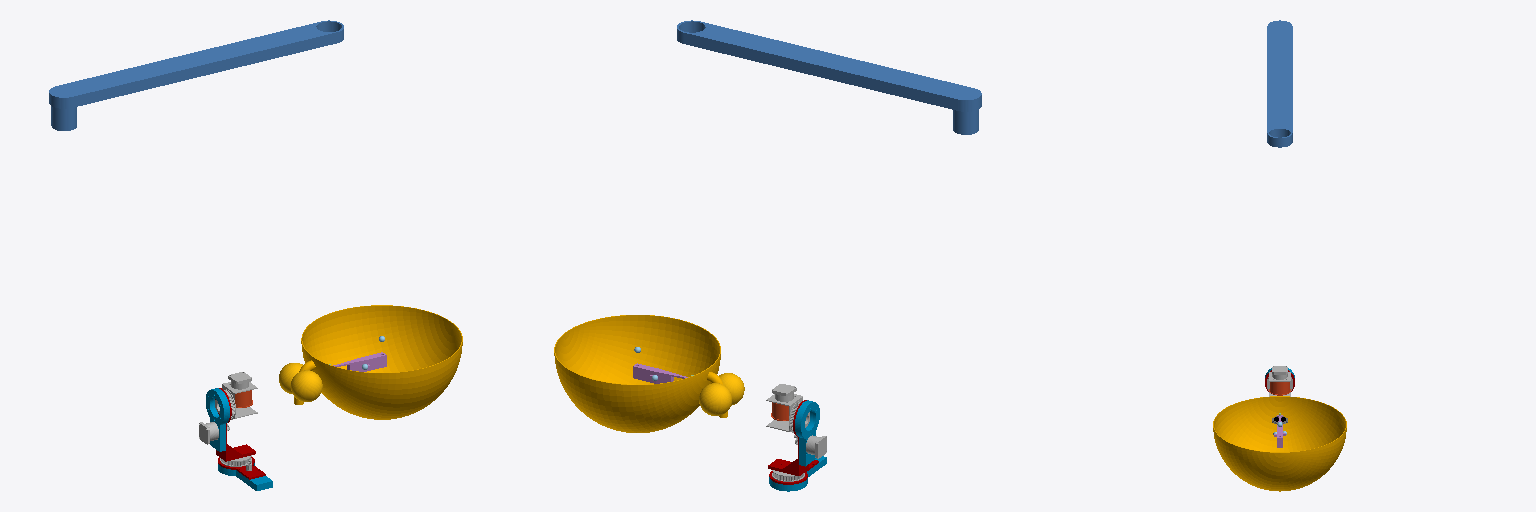
The robot description file, URDF, robot "manipulator_cable":
<?xml version="1.0" ?>
<!-- Generated using onshape-to-robot -->
<!-- Onshape https://cad.onshape.com/documents/b39b411822989851cca3e813/w/467ae2e9d0332de97ab9273b/e/7c7c756798b0544d5800e865 -->
<robot name="manipulator_cable">
  <!-- Link base_mate -->
  <link name="base_mate">
    <inertial>
      <origin xyz="7.86381e-05 -0.054697 0.0143065" rpy="0 0 0"/>
      <mass value="0.896478"/>
      <inertia ixx="0.00446547" ixy="-1.19636e-07" ixz="-1.49409e-06" iyy="0.000755188" iyz="-2.78032e-05" izz="0.00509348"/>
    </inertial>
    <!-- Part base -->
    <visual>
      <origin xyz="-2.08167e-17 0 0.011" rpy="-1.5708 -1.5708 0"/>
      <geometry>
        <mesh filename="package://assets/base.obj"/>
      </geometry>
      <material name="base_material">
        <color rgba="0 0.6 0.8 1"/>
      </material>
    </visual>
    <collision>
      <origin xyz="-2.08167e-17 0 0.011" rpy="-1.5708 -1.5708 0"/>
      <geometry>
        <mesh filename="package://assets/base.obj"/>
      </geometry>
    </collision>
    <!-- Part pulley_idler -->
    <visual>
      <origin xyz="0.022 -0.053 0.043" rpy="-1.5708 -7.88861e-30 1.5708"/>
      <geometry>
        <mesh filename="package://assets/pulley_idler.obj"/>
      </geometry>
      <material name="pulley_idler_material">
        <color rgba="0.74902 0.74902 0.74902 1"/>
      </material>
    </visual>
    <collision>
      <origin xyz="0.022 -0.053 0.043" rpy="-1.5708 -7.88861e-30 1.5708"/>
      <geometry>
        <mesh filename="package://assets/pulley_idler.obj"/>
      </geometry>
    </collision>
    <!-- Part tutup_base_1 -->
    <visual>
      <origin xyz="3.04901e-18 -1.05985e-32 0.022" rpy="1.5708 7.69139e-30 -1.5708"/>
      <geometry>
        <mesh filename="package://assets/tutup_base_1.obj"/>
      </geometry>
      <material name="tutup_base_1_material">
        <color rgba="0.698039 0 0 1"/>
      </material>
    </visual>
    <collision>
      <origin xyz="3.04901e-18 -1.05985e-32 0.022" rpy="1.5708 7.69139e-30 -1.5708"/>
      <geometry>
        <mesh filename="package://assets/tutup_base_1.obj"/>
      </geometry>
    </collision>
    <!-- Part pulle_htd_5m_12t -->
    <visual>
      <origin xyz="7.26786e-18 -0.08 0.0455" rpy="-1.5708 -1.33227e-15 4.44089e-16"/>
      <geometry>
        <mesh filename="package://assets/pulle_htd_5m_12t.obj"/>
      </geometry>
      <material name="pulle_htd_5m_12t_material">
        <color rgba="0.74902 0.74902 0.74902 1"/>
      </material>
    </visual>
    <collision>
      <origin xyz="7.26786e-18 -0.08 0.0455" rpy="-1.5708 -1.33227e-15 4.44089e-16"/>
      <geometry>
        <mesh filename="package://assets/pulle_htd_5m_12t.obj"/>
      </geometry>
    </collision>
  </link>
  <!-- Link pulley_htd_5m_60t -->
  <link name="pulley_htd_5m_60t">
    <inertial>
      <origin xyz="0.0455629 -2.16864e-06 0.158199" rpy="0 0 0"/>
      <mass value="5.31309"/>
      <inertia ixx="0.0339283" ixy="2.16268e-05" ixz="-0.0188964" iyy="0.0891131" iyz="5.29894e-06" izz="0.0607057"/>
    </inertial>
    <!-- Part pulley_htd_5m_60t -->
    <visual>
      <origin xyz="0 2.73691e-48 -0.0025" rpy="-1.5708 -6.56859e-47 5.93186e-32"/>
      <geometry>
        <mesh filename="package://assets/pulley_htd_5m_60t.obj"/>
      </geometry>
      <material name="pulley_htd_5m_60t_material">
        <color rgba="0.74902 0.74902 0.74902 1"/>
      </material>
    </visual>
    <collision>
      <origin xyz="0 2.73691e-48 -0.0025" rpy="-1.5708 -6.56859e-47 5.93186e-32"/>
      <geometry>
        <mesh filename="package://assets/pulley_htd_5m_60t.obj"/>
      </geometry>
    </collision>
    <!-- Part base_kedua -->
    <visual>
      <origin xyz="-0.0658116 -6.08653e-17 0.179049" rpy="1.47911e-31 -1.52349e-29 4.41487e-16"/>
      <geometry>
        <mesh filename="package://assets/base_kedua.obj"/>
      </geometry>
      <material name="base_kedua_material">
        <color rgba="0 0.6 0.8 1"/>
      </material>
    </visual>
    <collision>
      <origin xyz="-0.0658116 -6.08653e-17 0.179049" rpy="1.47911e-31 -1.52349e-29 4.41487e-16"/>
      <geometry>
        <mesh filename="package://assets/base_kedua.obj"/>
      </geometry>
    </collision>
    <!-- Part part_1 -->
    <visual>
      <origin xyz="0.232043 -0.0375 0.195349" rpy="-2.01765e-27 2.70617e-16 -6.93889e-17"/>
      <geometry>
        <mesh filename="package://assets/part_1.obj"/>
      </geometry>
      <material name="part_1_material">
        <color rgba="1 0.756863 0.054902 1"/>
      </material>
    </visual>
    <collision>
      <origin xyz="0.232043 -0.0375 0.195349" rpy="-2.01765e-27 2.70617e-16 -6.93889e-17"/>
      <geometry>
        <mesh filename="package://assets/part_1.obj"/>
      </geometry>
    </collision>
    <!-- Part pulley_idler_2 -->
    <visual>
      <origin xyz="-0.0338116 0.022 0.126049" rpy="4.44089e-16 -7.33047e-30 1.5708"/>
      <geometry>
        <mesh filename="package://assets/pulley_idler.obj"/>
      </geometry>
      <material name="pulley_idler_2_material">
        <color rgba="0.74902 0.74902 0.74902 1"/>
      </material>
    </visual>
    <collision>
      <origin xyz="-0.0338116 0.022 0.126049" rpy="4.44089e-16 -7.33047e-30 1.5708"/>
      <geometry>
        <mesh filename="package://assets/pulley_idler.obj"/>
      </geometry>
    </collision>
    <!-- Part gearbox_15_ratio -->
    <visual>
      <origin xyz="0.0426884 0.0285 0.264049" rpy="-3.14159 -4.44089e-16 3.14159"/>
      <geometry>
        <mesh filename="package://assets/gearbox_15_ratio.obj"/>
      </geometry>
      <material name="gearbox_15_ratio_material">
        <color rgba="0.74902 0.74902 0.74902 1"/>
      </material>
    </visual>
    <collision>
      <origin xyz="0.0426884 0.0285 0.264049" rpy="-3.14159 -4.44089e-16 3.14159"/>
      <geometry>
        <mesh filename="package://assets/gearbox_15_ratio.obj"/>
      </geometry>
    </collision>
    <!-- Part pulle_htd_5m_12t_2 -->
    <visual>
      <origin xyz="-0.0313116 -2.76743e-17 0.0990487" rpy="-1.5708 1.5708 0"/>
      <geometry>
        <mesh filename="package://assets/pulle_htd_5m_12t.obj"/>
      </geometry>
      <material name="pulle_htd_5m_12t_2_material">
        <color rgba="0.74902 0.74902 0.74902 1"/>
      </material>
    </visual>
    <collision>
      <origin xyz="-0.0313116 -2.76743e-17 0.0990487" rpy="-1.5708 1.5708 0"/>
      <geometry>
        <mesh filename="package://assets/pulle_htd_5m_12t.obj"/>
      </geometry>
    </collision>
    <!-- Part part_1_2 -->
    <visual>
      <origin xyz="0.232304 0.037208 0.191749" rpy="-2.0177e-27 6.17562e-16 -6.93889e-17"/>
      <geometry>
        <mesh filename="package://assets/part_1.obj"/>
      </geometry>
      <material name="part_1_2_material">
        <color rgba="1 0.756863 0.054902 1"/>
      </material>
    </visual>
    <collision>
      <origin xyz="0.232304 0.037208 0.191749" rpy="-2.0177e-27 6.17562e-16 -6.93889e-17"/>
      <geometry>
        <mesh filename="package://assets/part_1.obj"/>
      </geometry>
    </collision>
    <!-- Part part_623zz -->
    <visual>
      <origin xyz="0.232304 0.037208 0.198249" rpy="9.64146e-19 6.17562e-16 -6.93889e-17"/>
      <geometry>
        <mesh filename="package://assets/part_623zz.obj"/>
      </geometry>
      <material name="part_623zz_material">
        <color rgba="0.956863 0.956863 0.956863 1"/>
      </material>
    </visual>
    <collision>
      <origin xyz="0.232304 0.037208 0.198249" rpy="9.64146e-19 6.17562e-16 -6.93889e-17"/>
      <geometry>
        <mesh filename="package://assets/part_623zz.obj"/>
      </geometry>
    </collision>
    <!-- Part pulley_htd_5m_60t_2 -->
    <visual>
      <origin xyz="-0.0313116 -3.37739e-17 0.179049" rpy="-1.5708 1.5708 0"/>
      <geometry>
        <mesh filename="package://assets/pulley_htd_5m_60t.obj"/>
      </geometry>
      <material name="pulley_htd_5m_60t_2_material">
        <color rgba="0.74902 0.74902 0.74902 1"/>
      </material>
    </visual>
    <collision>
      <origin xyz="-0.0313116 -3.37739e-17 0.179049" rpy="-1.5708 1.5708 0"/>
      <geometry>
        <mesh filename="package://assets/pulley_htd_5m_60t.obj"/>
      </geometry>
    </collision>
    <!-- Part link1 -->
    <visual>
      <origin xyz="0.334804 -6.75053e-17 0.177049" rpy="-2.02465e-27 4.44089e-16 -6.93889e-17"/>
      <geometry>
        <mesh filename="package://assets/link1.obj"/>
      </geometry>
      <material name="link1_material">
        <color rgba="0.32549 0.529412 0.752941 1"/>
      </material>
    </visual>
    <collision>
      <origin xyz="0.334804 -6.75053e-17 0.177049" rpy="-2.02465e-27 4.44089e-16 -6.93889e-17"/>
      <geometry>
        <mesh filename="package://assets/link1.obj"/>
      </geometry>
    </collision>
    <!-- Part part_623zz_2 -->
    <visual>
      <origin xyz="0.232043 -0.0375 0.201849" rpy="9.64146e-19 2.70617e-16 -6.93889e-17"/>
      <geometry>
        <mesh filename="package://assets/part_623zz.obj"/>
      </geometry>
      <material name="part_623zz_2_material">
        <color rgba="0.956863 0.956863 0.956863 1"/>
      </material>
    </visual>
    <collision>
      <origin xyz="0.232043 -0.0375 0.201849" rpy="9.64146e-19 2.70617e-16 -6.93889e-17"/>
      <geometry>
        <mesh filename="package://assets/part_623zz.obj"/>
      </geometry>
    </collision>
    <!-- Part tutup_base_1_dgn_mounting -->
    <visual>
      <origin xyz="-0.0548116 -3.21433e-17 0.179049" rpy="1.5708 1.5708 0"/>
      <geometry>
        <mesh filename="package://assets/tutup_base_1_dgn_mounting.obj"/>
      </geometry>
      <material name="tutup_base_1_dgn_mounting_material">
        <color rgba="0.698039 0 0 1"/>
      </material>
    </visual>
    <collision>
      <origin xyz="-0.0548116 -3.21433e-17 0.179049" rpy="1.5708 1.5708 0"/>
      <geometry>
        <mesh filename="package://assets/tutup_base_1_dgn_mounting.obj"/>
      </geometry>
    </collision>
    <!-- Part shoulder_bracker -->
    <visual>
      <origin xyz="-0.0288116 -4.16014e-17 0.179049" rpy="-4.44089e-16 -2.03161e-27 -1.5708"/>
      <geometry>
        <mesh filename="package://assets/shoulder_bracker.obj"/>
      </geometry>
      <material name="shoulder_bracker_material">
        <color rgba="0.74902 0.74902 0.74902 1"/>
      </material>
    </visual>
    <collision>
      <origin xyz="-0.0288116 -4.16014e-17 0.179049" rpy="-4.44089e-16 -2.03161e-27 -1.5708"/>
      <geometry>
        <mesh filename="package://assets/shoulder_bracker.obj"/>
      </geometry>
    </collision>
    <!-- Part gearbox_15_ratio_2 -->
    <visual>
      <origin xyz="-0.118812 0.0285 0.127549" rpy="6.93889e-17 1.5708 0"/>
      <geometry>
        <mesh filename="package://assets/gearbox_15_ratio.obj"/>
      </geometry>
      <material name="gearbox_15_ratio_2_material">
        <color rgba="0.74902 0.74902 0.74902 1"/>
      </material>
    </visual>
    <collision>
      <origin xyz="-0.118812 0.0285 0.127549" rpy="6.93889e-17 1.5708 0"/>
      <geometry>
        <mesh filename="package://assets/gearbox_15_ratio.obj"/>
      </geometry>
    </collision>
    <!-- Part simple_ball -->
    <visual>
      <origin xyz="-0.0238116 -6.77745e-17 0.200249" rpy="-2.03206e-27 4.44089e-16 -6.93889e-17"/>
      <geometry>
        <mesh filename="package://assets/simple_ball.obj"/>
      </geometry>
      <material name="simple_ball_material">
        <color rgba="0.615686 0.811765 0.929412 1"/>
      </material>
    </visual>
    <collision>
      <origin xyz="-0.0238116 -6.77745e-17 0.200249" rpy="-2.03206e-27 4.44089e-16 -6.93889e-17"/>
      <geometry>
        <mesh filename="package://assets/simple_ball.obj"/>
      </geometry>
    </collision>
    <!-- Part link1_base_pulley -->
    <visual>
      <origin xyz="0.0141884 -7.05644e-17 0.266049" rpy="-2.03206e-27 5.66554e-16 -6.93889e-17"/>
      <geometry>
        <mesh filename="package://assets/link1_base_pulley.obj"/>
      </geometry>
      <material name="link1_base_pulley_material">
        <color rgba="0.866667 0.321569 0.156863 1"/>
      </material>
    </visual>
    <collision>
      <origin xyz="0.0141884 -7.05644e-17 0.266049" rpy="-2.03206e-27 5.66554e-16 -6.93889e-17"/>
      <geometry>
        <mesh filename="package://assets/link1_base_pulley.obj"/>
      </geometry>
    </collision>
    <!-- Part simple_ball_2 -->
    <visual>
      <origin xyz="-0.0238116 -6.77745e-17 0.203849" rpy="-2.03206e-27 4.44089e-16 -6.93889e-17"/>
      <geometry>
        <mesh filename="package://assets/simple_ball.obj"/>
      </geometry>
      <material name="simple_ball_2_material">
        <color rgba="0.615686 0.811765 0.929412 1"/>
      </material>
    </visual>
    <collision>
      <origin xyz="-0.0238116 -6.77745e-17 0.203849" rpy="-2.03206e-27 4.44089e-16 -6.93889e-17"/>
      <geometry>
        <mesh filename="package://assets/simple_ball.obj"/>
      </geometry>
    </collision>
  </link>
  <!-- Link link2_tendon -->
  <link name="link2_tendon">
    <inertial>
      <origin xyz="0.109246 -1.38742e-06 -0.0156533" rpy="0 0 0"/>
      <mass value="0.519667"/>
      <inertia ixx="0.00024253" ixy="1.31609e-08" ixz="-0.000187661" iyy="0.00270906" iyz="-2.69007e-07" izz="0.00262061"/>
    </inertial>
    <!-- Part outer_big_stopper -->
    <visual>
      <origin xyz="0 -4.14427e-20 -0.0102929" rpy="-4.96131e-16 1.5708 0"/>
      <geometry>
        <mesh filename="package://assets/outer_big_stopper.obj"/>
      </geometry>
      <material name="outer_big_stopper_material">
        <color rgba="0 0 0 1"/>
      </material>
    </visual>
    <collision>
      <origin xyz="0 -4.14427e-20 -0.0102929" rpy="-4.96131e-16 1.5708 0"/>
      <geometry>
        <mesh filename="package://assets/outer_big_stopper.obj"/>
      </geometry>
    </collision>
    <!-- Part link2_tendon -->
    <visual>
      <origin xyz="0 -3.06162e-19 -0.04" rpy="3.68876e-30 4.93038e-32 -1.84889e-32"/>
      <geometry>
        <mesh filename="package://assets/link2_tendon.obj"/>
      </geometry>
      <material name="link2_tendon_material">
        <color rgba="0.764706 0.545098 0.803922 1"/>
      </material>
    </visual>
    <collision>
      <origin xyz="0 -3.06162e-19 -0.04" rpy="3.68876e-30 4.93038e-32 -1.84889e-32"/>
      <geometry>
        <mesh filename="package://assets/link2_tendon.obj"/>
      </geometry>
    </collision>
    <!-- Part shaft -->
    <visual>
      <origin xyz="0 -3.06162e-19 0.01" rpy="3.69127e-30 -1.21431e-16 -5.55112e-17"/>
      <geometry>
        <mesh filename="package://assets/shaft.obj"/>
      </geometry>
      <material name="shaft_material">
        <color rgba="0.654902 0.823529 0.576471 1"/>
      </material>
    </visual>
    <collision>
      <origin xyz="0 -3.06162e-19 0.01" rpy="3.69127e-30 -1.21431e-16 -5.55112e-17"/>
      <geometry>
        <mesh filename="package://assets/shaft.obj"/>
      </geometry>
    </collision>
    <!-- Part outer_big_stopper_2 -->
    <visual>
      <origin xyz="0 -7.6483e-20 -0.0302929" rpy="6.34909e-16 -1.5708 0"/>
      <geometry>
        <mesh filename="package://assets/outer_big_stopper.obj"/>
      </geometry>
      <material name="outer_big_stopper_2_material">
        <color rgba="0 0 0 1"/>
      </material>
    </visual>
    <collision>
      <origin xyz="0 -7.6483e-20 -0.0302929" rpy="6.34909e-16 -1.5708 0"/>
      <geometry>
        <mesh filename="package://assets/outer_big_stopper.obj"/>
      </geometry>
    </collision>
    <!-- Part cup -->
    <visual>
      <origin xyz="0.19 -2.54114e-18 0.0515" rpy="3.06162e-16 4.93038e-32 -1.84889e-32"/>
      <geometry>
        <mesh filename="package://assets/cup.obj"/>
      </geometry>
      <material name="cup_material">
        <color rgba="0.980392 0.713725 0.00392157 1"/>
      </material>
    </visual>
    <collision>
      <origin xyz="0.19 -2.54114e-18 0.0515" rpy="3.06162e-16 4.93038e-32 -1.84889e-32"/>
      <geometry>
        <mesh filename="package://assets/cup.obj"/>
      </geometry>
    </collision>
    <!-- Part bearing_30x37 -->
    <visual>
      <origin xyz="0 3.97512e-30 -0.0222929" rpy="2.02452e-27 -4.44089e-16 5.10009e-16"/>
      <geometry>
        <mesh filename="package://assets/bearing_30x37.obj"/>
      </geometry>
      <material name="bearing_30x37_material">
        <color rgba="0.956863 0.956863 0.956863 1"/>
      </material>
    </visual>
    <collision>
      <origin xyz="0 3.97512e-30 -0.0222929" rpy="2.02452e-27 -4.44089e-16 5.10009e-16"/>
      <geometry>
        <mesh filename="package://assets/bearing_30x37.obj"/>
      </geometry>
    </collision>
    <!-- Part pulley_big -->
    <visual>
      <origin xyz="0 -6.16298e-33 0.00450711" rpy="7.49401e-16 1.5708 0"/>
      <geometry>
        <mesh filename="package://assets/pulley_big.obj"/>
      </geometry>
      <material name="pulley_big_material">
        <color rgba="0.501961 0.501961 0.501961 1"/>
      </material>
    </visual>
    <collision>
      <origin xyz="0 -6.16298e-33 0.00450711" rpy="7.49401e-16 1.5708 0"/>
      <geometry>
        <mesh filename="package://assets/pulley_big.obj"/>
      </geometry>
    </collision>
    <!-- Part simple_ball_3 -->
    <visual>
      <origin xyz="0.12 0.0175 -0.0182" rpy="-1.5708 -2.58881e-29 1.5708"/>
      <geometry>
        <mesh filename="package://assets/simple_ball.obj"/>
      </geometry>
      <material name="simple_ball_3_material">
        <color rgba="0.615686 0.811765 0.929412 1"/>
      </material>
    </visual>
    <collision>
      <origin xyz="0.12 0.0175 -0.0182" rpy="-1.5708 -2.58881e-29 1.5708"/>
      <geometry>
        <mesh filename="package://assets/simple_ball.obj"/>
      </geometry>
    </collision>
    <!-- Part simple_ball_4 -->
    <visual>
      <origin xyz="0.12 -0.015 -0.0218" rpy="-1.5708 -3.68876e-30 1.5708"/>
      <geometry>
        <mesh filename="package://assets/simple_ball.obj"/>
      </geometry>
      <material name="simple_ball_4_material">
        <color rgba="0.615686 0.811765 0.929412 1"/>
      </material>
    </visual>
    <collision>
      <origin xyz="0.12 -0.015 -0.0218" rpy="-1.5708 -3.68876e-30 1.5708"/>
      <geometry>
        <mesh filename="package://assets/simple_ball.obj"/>
      </geometry>
    </collision>
    <!-- Part simple_ball_5 -->
    <visual>
      <origin xyz="0.19 5.81707e-19 0.0515" rpy="3.06162e-16 4.93038e-32 -1.84889e-32"/>
      <geometry>
        <mesh filename="package://assets/simple_ball.obj"/>
      </geometry>
      <material name="simple_ball_5_material">
        <color rgba="0.615686 0.811765 0.929412 1"/>
      </material>
    </visual>
    <collision>
      <origin xyz="0.19 5.81707e-19 0.0515" rpy="3.06162e-16 4.93038e-32 -1.84889e-32"/>
      <geometry>
        <mesh filename="package://assets/simple_ball.obj"/>
      </geometry>
    </collision>
  </link>
  <!-- Joint from pulley_htd_5m_60t to link2_tendon -->
  <joint name="link2_link1" type="revolute">
    <origin xyz="0.334804 -6.78114e-17 0.222049" rpy="-2.02465e-27 4.44089e-16 -6.93889e-17"/>
    <parent link="pulley_htd_5m_60t"/>
    <child link="link2_tendon"/>
    <axis xyz="0 0 1"/>
    <limit effort="10" velocity="10" lower="-3.141592653589793" upper="3.141592653589793"/>
  </joint>
  <!-- Joint from base_mate to pulley_htd_5m_60t -->
  <joint name="link1_base" type="revolute">
    <origin xyz="4.04133e-18 -1.79471e-33 0.048" rpy="-2.95823e-31 3.45127e-31 -4.4062e-16"/>
    <parent link="base_mate"/>
    <child link="pulley_htd_5m_60t"/>
    <axis xyz="0 0 1"/>
    <limit effort="10" velocity="10" lower="-3.141592653589793" upper="3.141592653589793"/>
  </joint>
</robot>

--- Render facts (derived) ---
The picture shows the robot from 3 angles, left to right: view 1: azimuth 30°, elevation 25°; view 2: azimuth 150°, elevation 25°; view 3: azimuth 270°, elevation 25°; orthographic projection.
Model manipulator_cable with 3 links and 2 joints (2 revolute), rooted at base_mate, posed all joints at 0.
Visible links, largest first — view 1: link2_tendon, pulley_htd_5m_60t, base_mate; view 2: link2_tendon, pulley_htd_5m_60t, base_mate; view 3: link2_tendon, pulley_htd_5m_60t.
Boxes of the visible links, x1,y1,x2,y2 form: link2_tendon: (294,305,462,419); pulley_htd_5m_60t: (49,20,343,466); base_mate: (218,457,272,490); link2_tendon: (554,315,727,432); pulley_htd_5m_60t: (677,20,981,481); base_mate: (769,456,826,491); link2_tendon: (1213,396,1346,491); pulley_htd_5m_60t: (1265,20,1294,396).
Size in the robot's own frame: 1.44 by 0.503 by 1.44 metres.
Meshes: 20 distinct files referenced, 29 mesh visuals loaded (19 OBJ); not drawn: 2 (reference not matched to a file when rendering).
